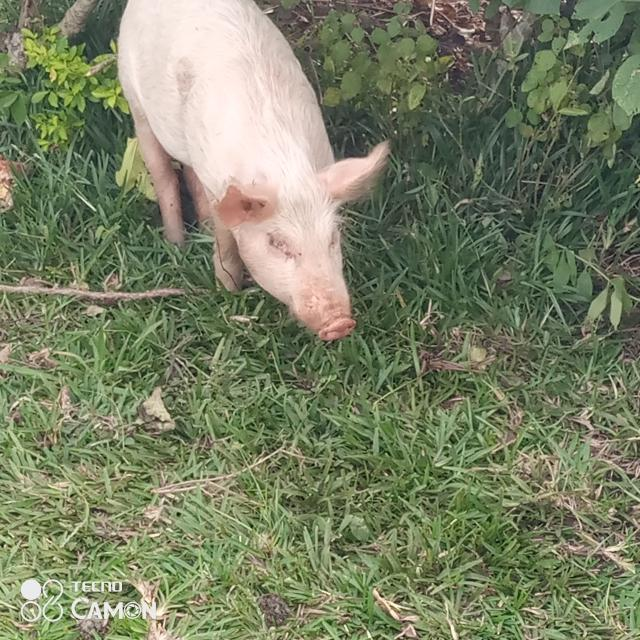pig: (102, 0, 422, 368)
